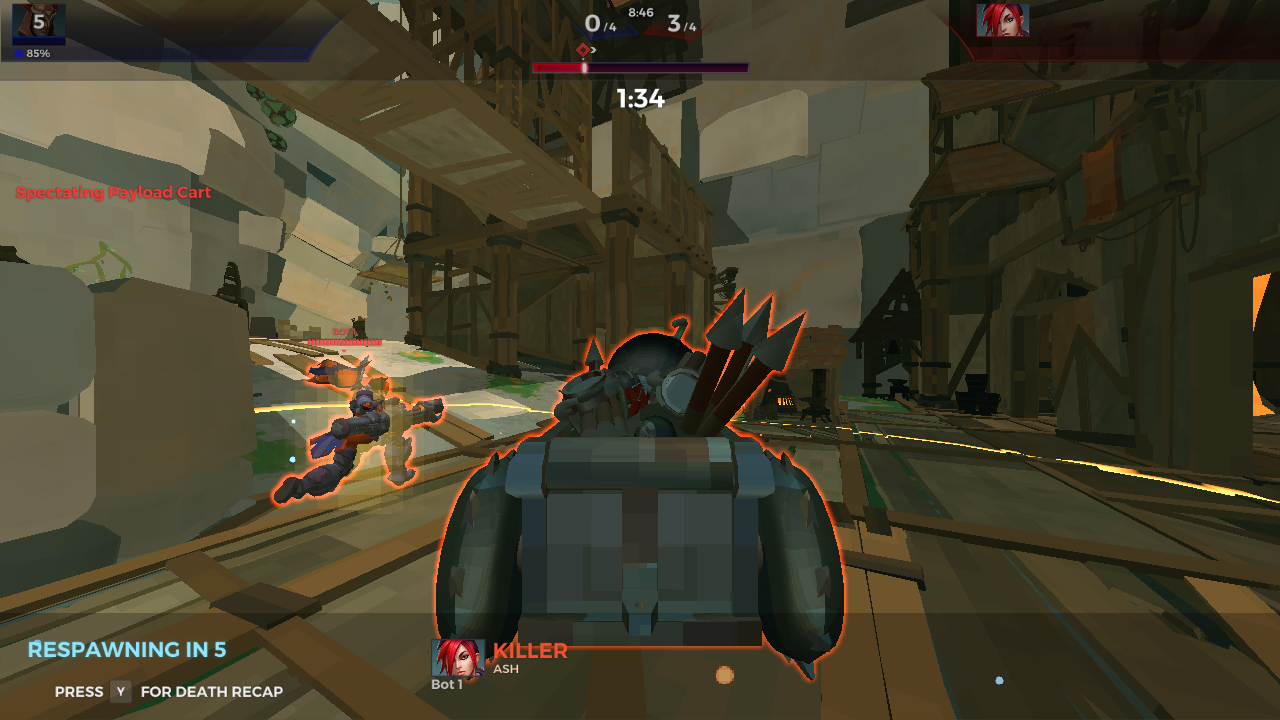model: (333, 360, 408, 501)
